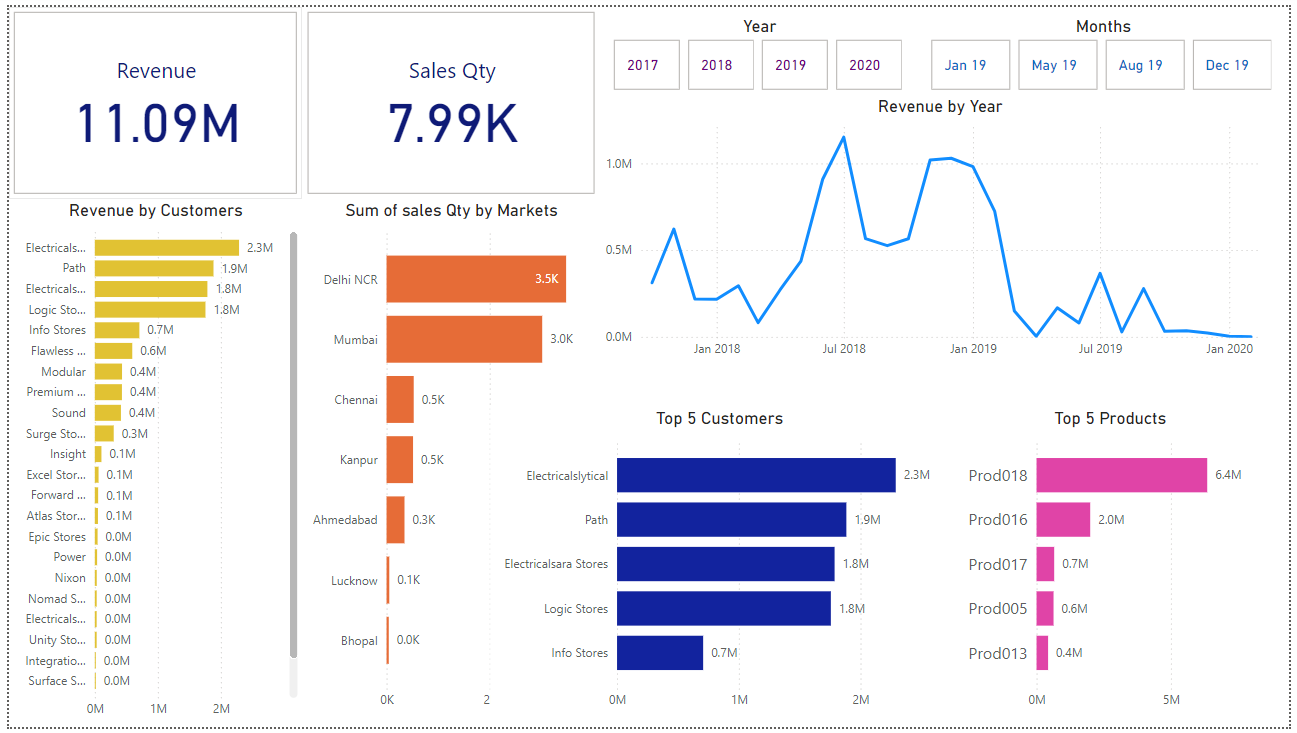

What the dashboard file says about the page in this screenshot:
{"tool":"powerbi","page":{"name":"Page 1","canvas":[1280,720],"ordinal":0},"visuals":[{"type":"cardVisual","fields":{"Data":["BaseMeasures.Revenue"]},"box":[0,0,293.8,192.5],"z":0},{"type":"cardVisual","fields":{"Data":["BaseMeasures.Sales Qty"]},"box":[293.8,0,297.5,192.5],"z":1000},{"type":"barChart","fields":{"Y":["BaseMeasures.Revenue"],"Category":["customers.customer_name"]},"box":[0,192.5,293.8,527.5],"z":2000},{"type":"barChart","title":"Sum of sales Qty by Markets","fields":{"Y":["Sum(transactions.sales_qty)"],"Category":["markets.market_name"]},"box":[293.8,192.5,297.5,518.8],"z":3000},{"type":"advancedSlicerVisual","fields":{"Values":["date.date.Variation.Date Hierarchy.Year"]},"box":[600,8.8,301.2,80],"z":4000},{"type":"advancedSlicerVisual","title":"Months","fields":{"Values":["date.cy_date"]},"box":[917.5,8.8,353.8,80],"z":5000},{"type":"barChart","title":"Top 5 Customers","fields":{"Y":["BaseMeasures.Revenue"],"Category":["customers.customer_name"]},"box":[481.2,401.2,458.8,310],"z":6000},{"type":"barChart","title":"Top 5 Products","fields":{"Y":["BaseMeasures.Revenue"],"Category":["products.product_code"]},"box":[948.8,401.2,305,310],"z":7000},{"type":"lineChart","title":"Revenue by Year","fields":{"Y":["BaseMeasures.Revenue"],"Category":["date.cy_date.Variation.Date Hierarchy.Year","date.cy_date.Variation.Date Hierarchy.Quarter","date.cy_date.Variation.Date Hierarchy.Month","date.cy_date.Variation.Date Hierarchy.Day"]},"box":[591.2,88.8,680,271.2],"z":8000}]}

Visuals, with their boxes in screenshot pixels (x1, y1, x2, y2), scaled from the page's 1280x720 canvas onto the 1297x733 screenshot:
cardVisual - BaseMeasures.Revenue: rect(0, 0, 298, 196)
cardVisual - BaseMeasures.Sales Qty: rect(298, 0, 599, 196)
barChart - BaseMeasures.Revenue x customers.customer_name: rect(0, 196, 298, 732)
"Sum of sales Qty by Markets" barChart: rect(298, 196, 599, 724)
advancedSlicerVisual - date.date.Variation.Date Hierarchy.Year: rect(608, 9, 913, 90)
"Months" advancedSlicerVisual: rect(930, 9, 1288, 90)
"Top 5 Customers" barChart: rect(488, 408, 952, 724)
"Top 5 Products" barChart: rect(961, 408, 1270, 724)
"Revenue by Year" lineChart: rect(599, 90, 1288, 366)
